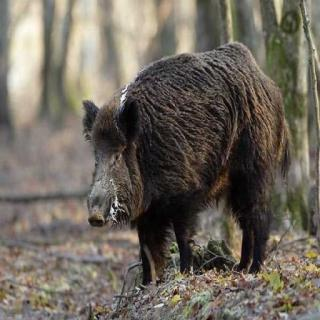Pig: (60, 27, 312, 280)
